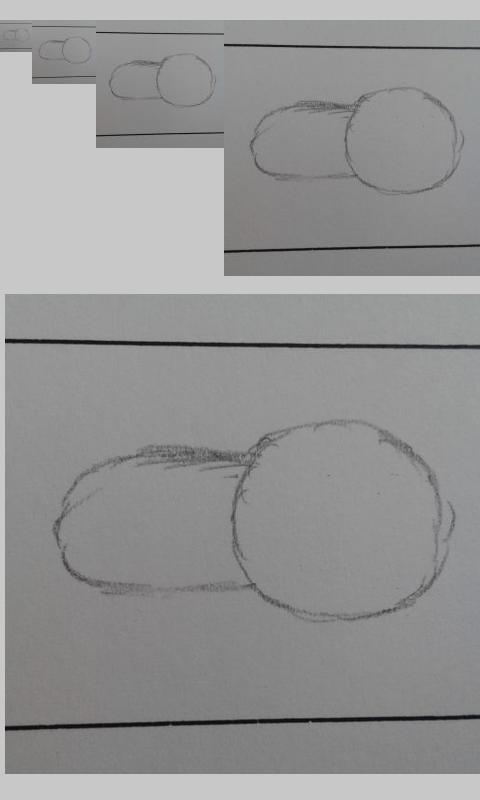switch: (53, 419, 456, 623), (248, 86, 463, 196), (108, 53, 216, 108), (38, 36, 92, 64), (1, 28, 30, 43)
